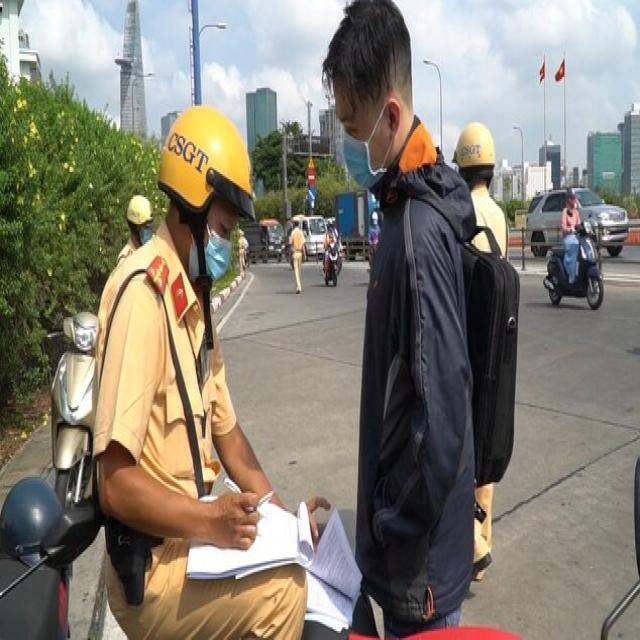Helmet: (152, 92, 259, 296)
Nonhelmet: (317, 0, 423, 199)
